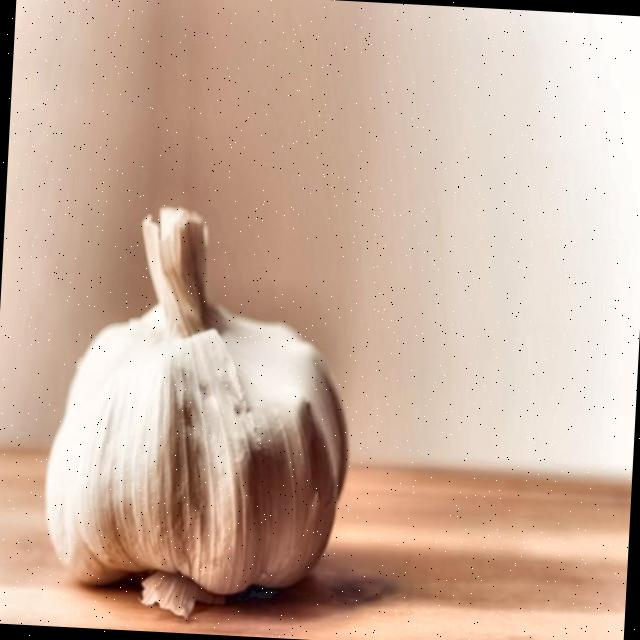garlic: (46, 208, 347, 616)
